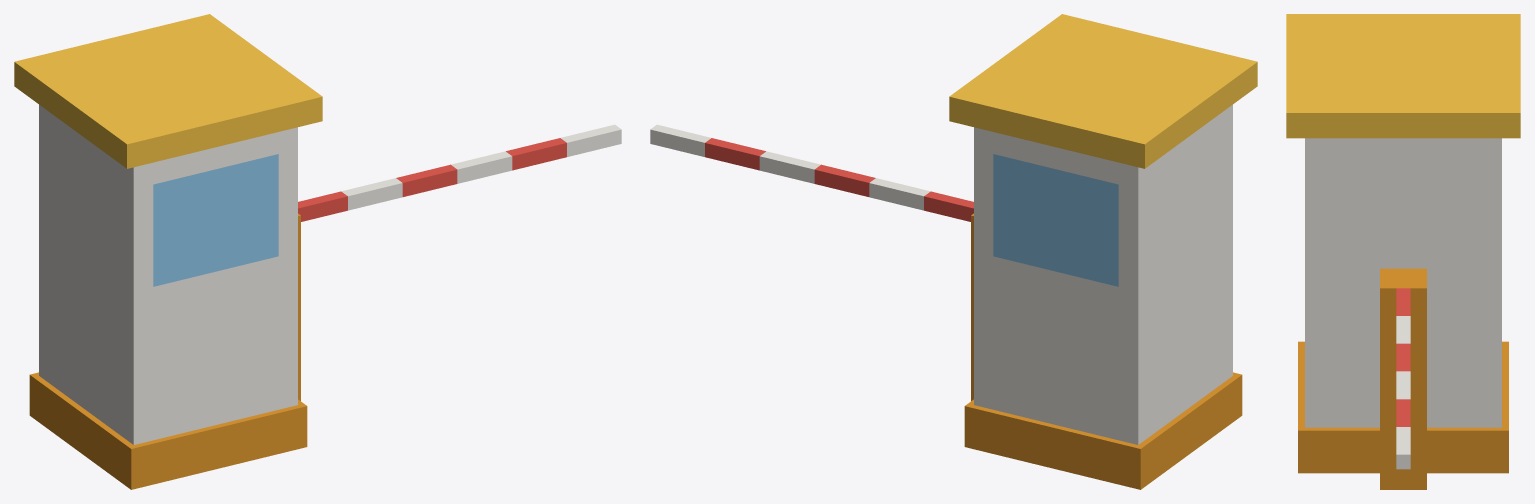
The model's file is P_ParkingBooth.fbx.
3 renders of one model, left to right at view 1: azimuth 30°, elevation 25°; view 2: azimuth 150°, elevation 25°; view 3: azimuth 270°, elevation 25°, orthographic. The views are drawn at different scales.
Parts seen in each view (by area): view 1: P_ParkingBooth; view 2: P_ParkingBooth; view 3: P_ParkingBooth.
Boxes of the visible parts, x1,y1,x2,y2 form: P_ParkingBooth: (14,14,621,489); P_ParkingBooth: (650,14,1257,489); P_ParkingBooth: (1286,14,1520,489).
Bounding box in the file's own units: 2.8 × 1.72 × 1.
